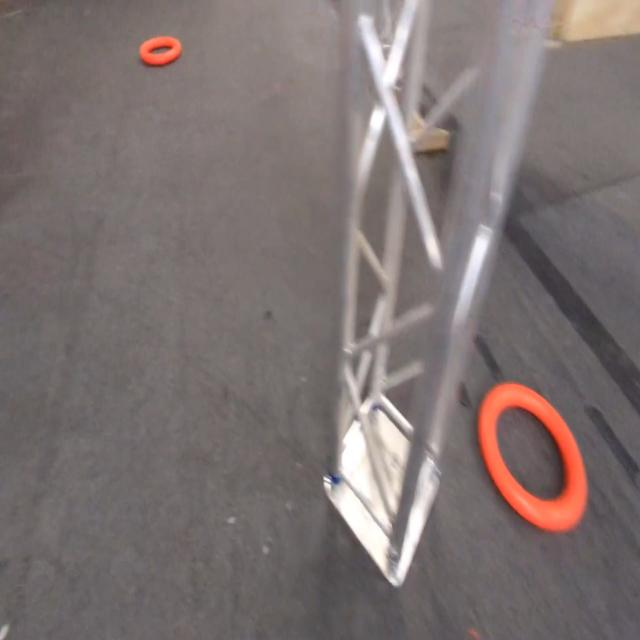note: (480, 383, 589, 529), (138, 34, 182, 66)
